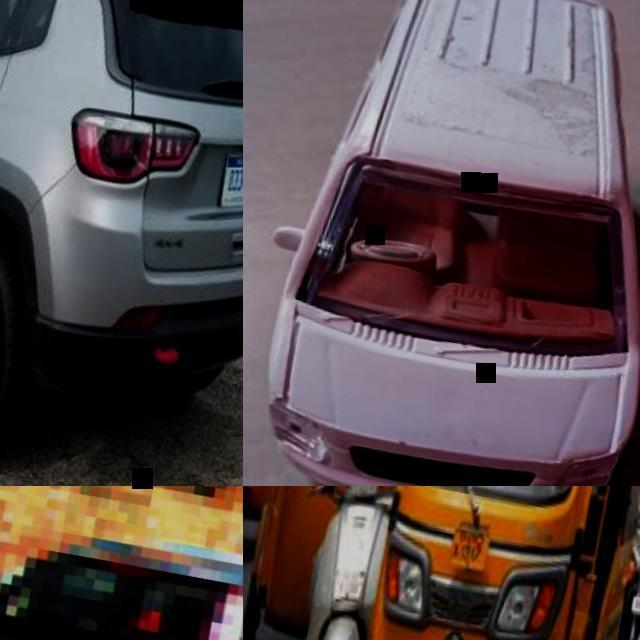car: (263, 12, 639, 639), (0, 0, 240, 461)
